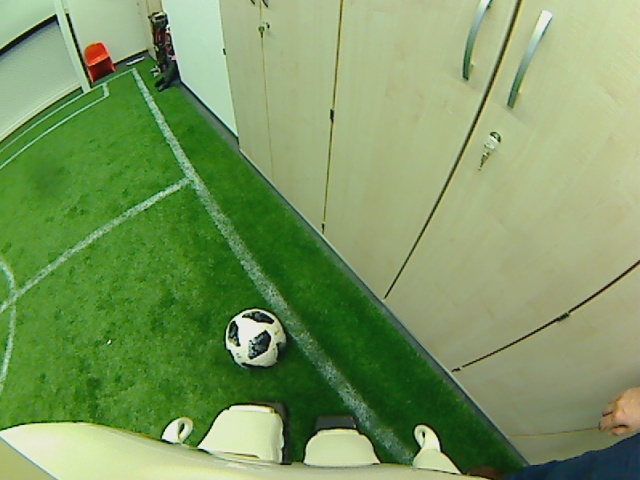ball: (222, 308, 288, 369)
